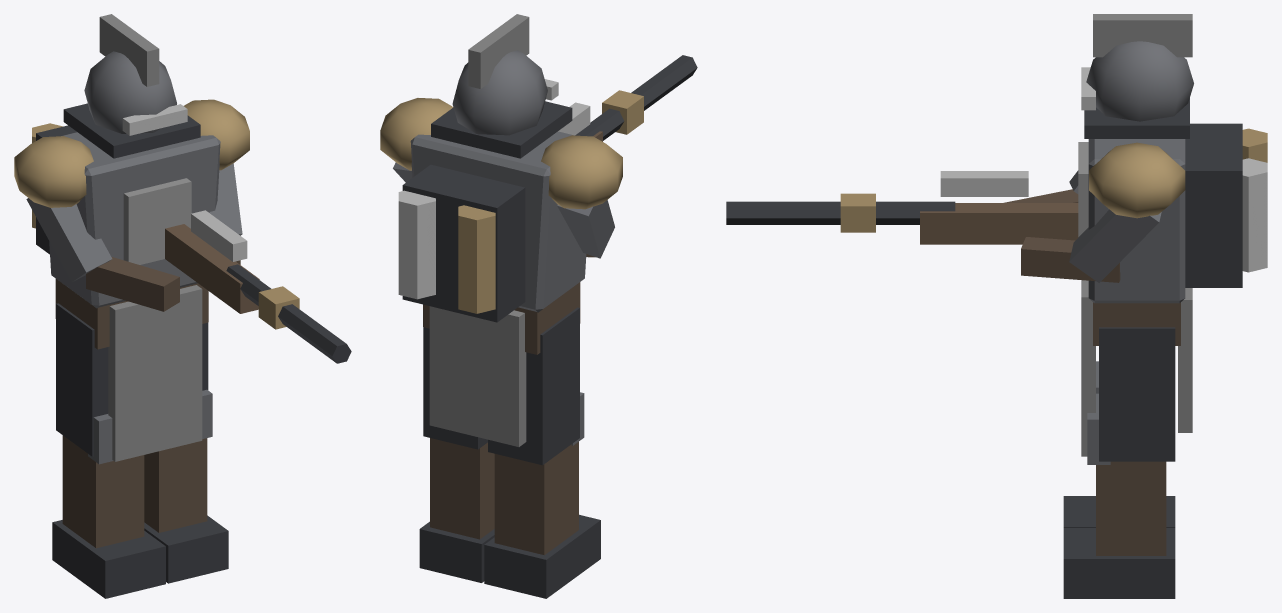
File: aetherguard.glb
3 views of the same model, side by side, from view 1: azimuth 30°, elevation 25°; view 2: azimuth 150°, elevation 25°; view 3: azimuth 270°, elevation 25° (orthographic). The views are drawn at different scales.
Parts seen in each view (by area): view 1: aetherguard; view 2: aetherguard; view 3: aetherguard.
Part boxes in pixels (box(x1,y1,x2,y2)): aetherguard: box(14, 14, 351, 598); aetherguard: box(380, 14, 697, 598); aetherguard: box(726, 14, 1267, 598).
Bounding box in the file's own units: 0.9338 × 2.07 × 1.84.
